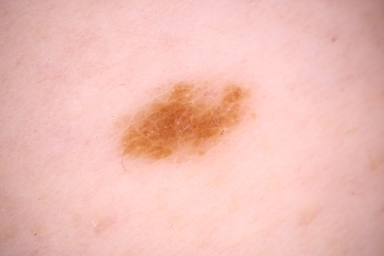melanoma: (122, 85, 250, 160)
